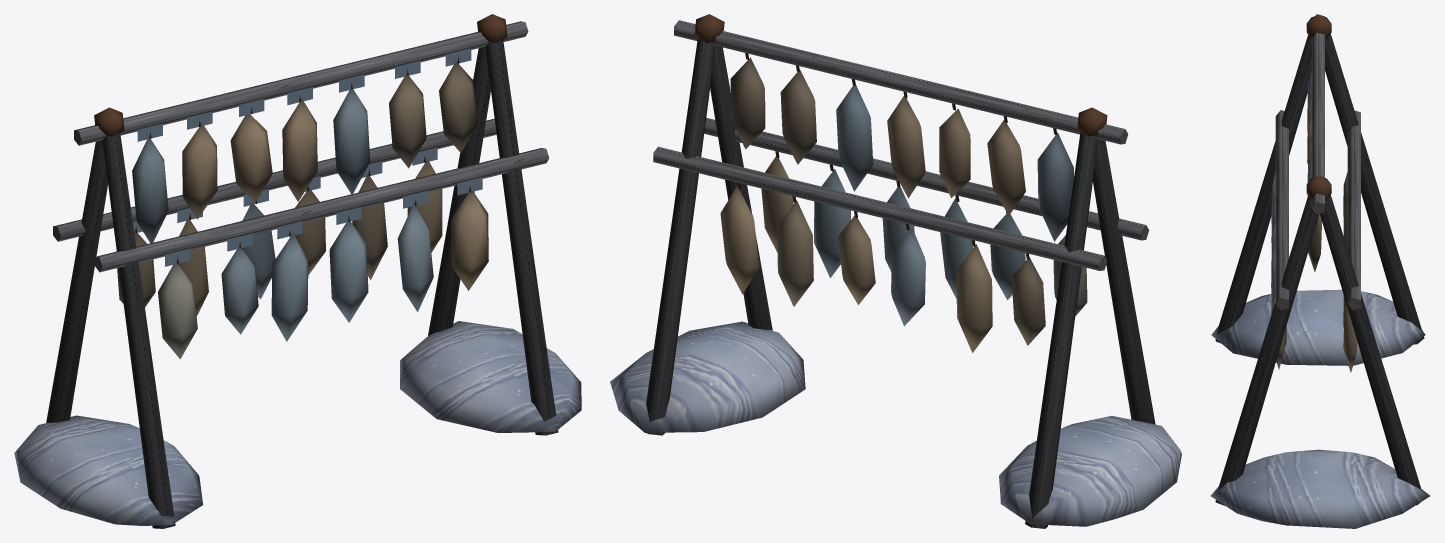
The model's file is rimeshore_drying_rack.glb.
3 views of the same model, side by side, from view 1: azimuth 30°, elevation 25°; view 2: azimuth 150°, elevation 25°; view 3: azimuth 270°, elevation 25° (orthographic). The views are drawn at different scales.
Parts seen in each view (by area): view 1: rimeshore_drying_rack; view 2: rimeshore_drying_rack; view 3: rimeshore_drying_rack.
Part boxes in pixels (x1=…): rimeshore_drying_rack: x1=14, y1=14, x2=581, y2=528; rimeshore_drying_rack: x1=610, y1=14, x2=1181, y2=528; rimeshore_drying_rack: x1=1210, y1=14, x2=1429, y2=528.
Bounding box in the file's own units: 2.5 × 1.71 × 1.04.
4 materials, 3 textured.
